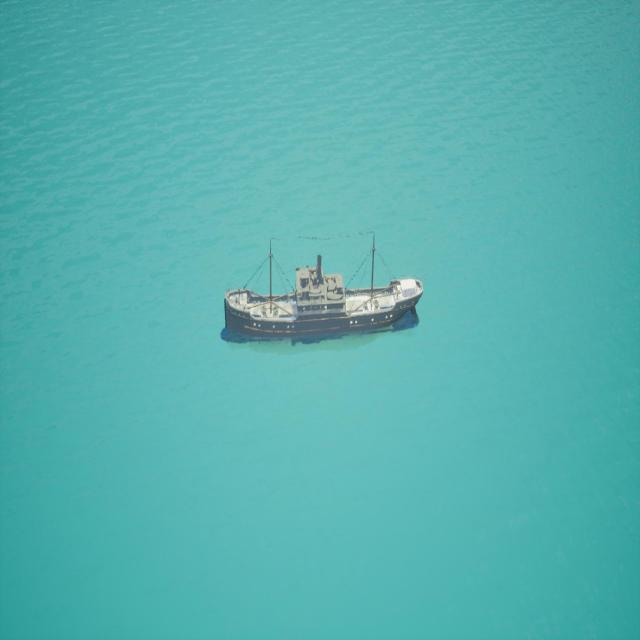fishing ship: (225, 233, 423, 344)
